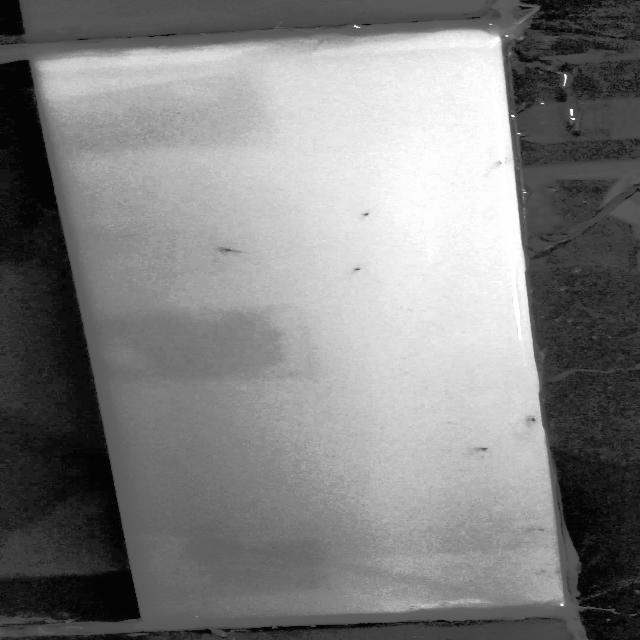shrimp: (348, 207, 378, 222), (521, 524, 549, 534), (217, 247, 247, 255), (470, 444, 493, 454), (348, 264, 371, 274), (518, 414, 536, 426)
